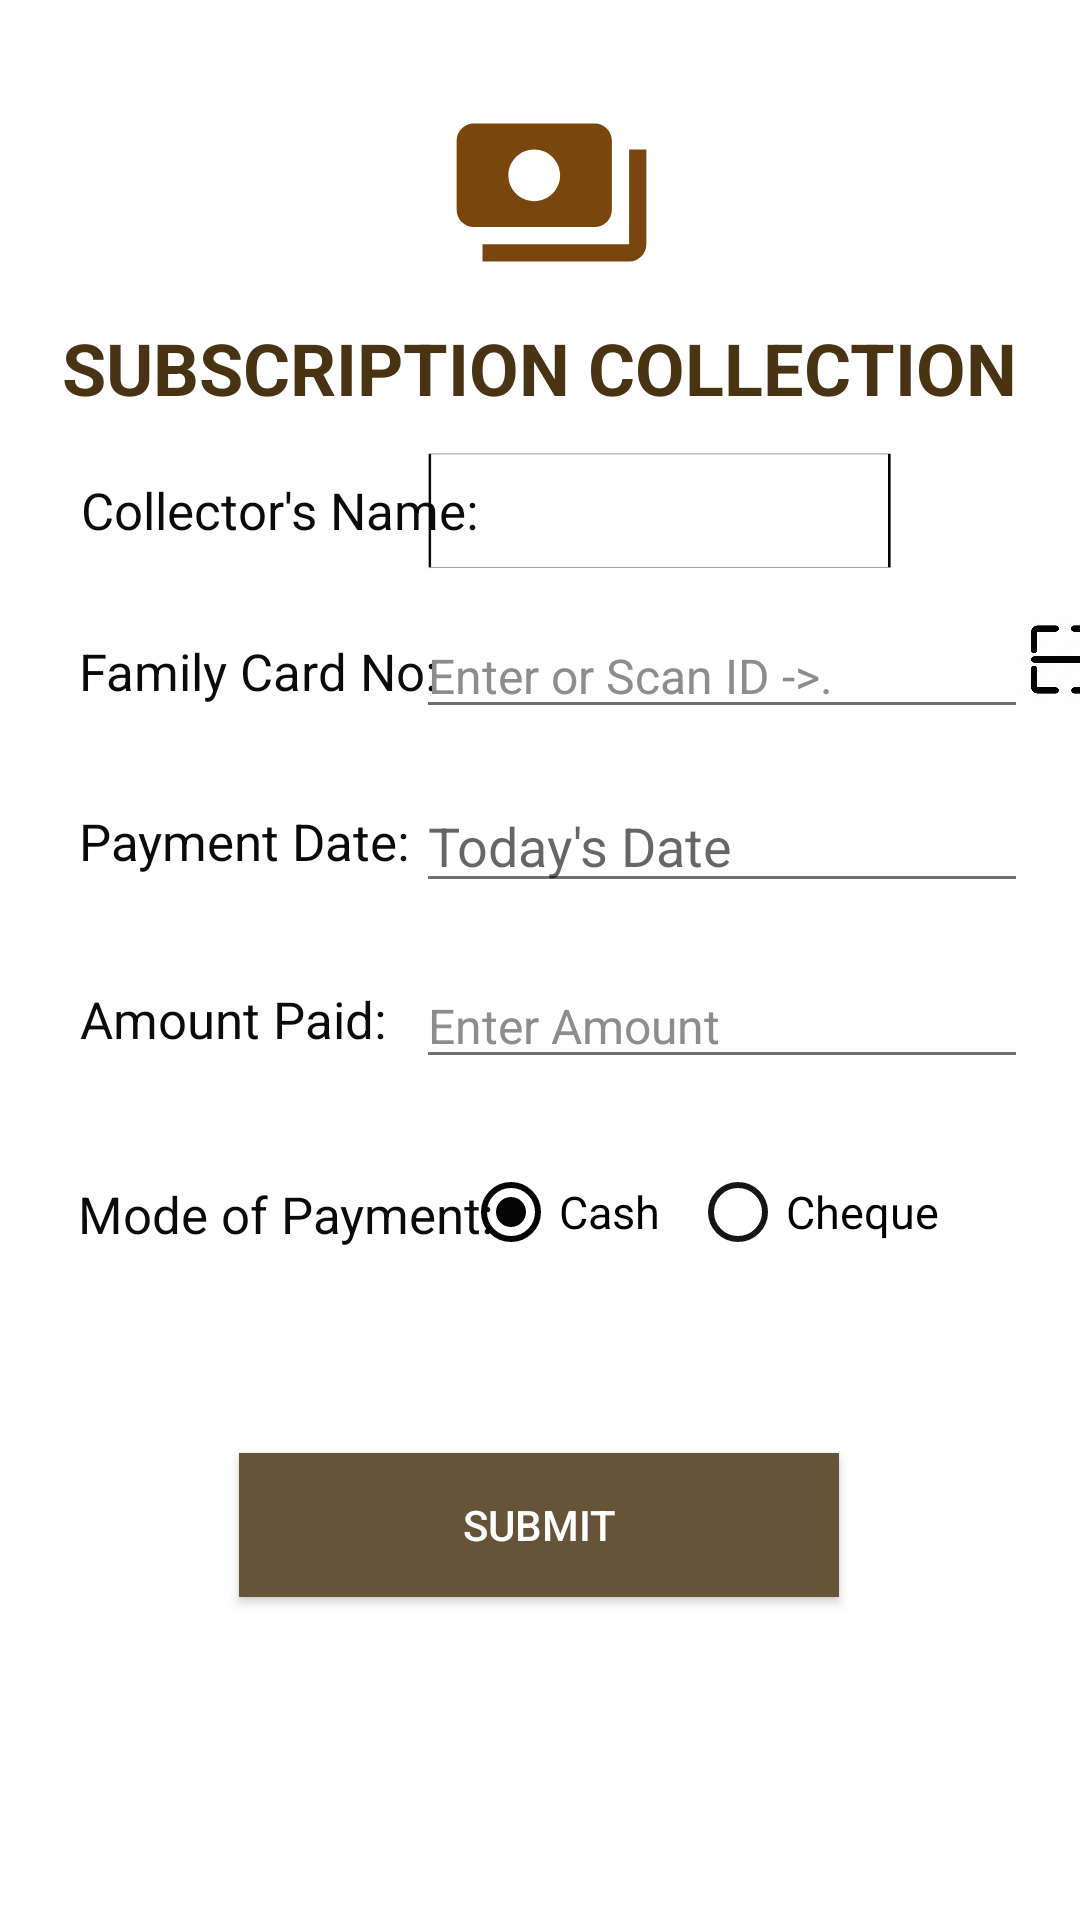

Icon bounding boxes for this 1080 × 1920 phone screenshot, format (x1=x1, y1=y1, x2=x2, y2=y2):
payments: (x1=456, y1=123, x2=647, y2=262)
